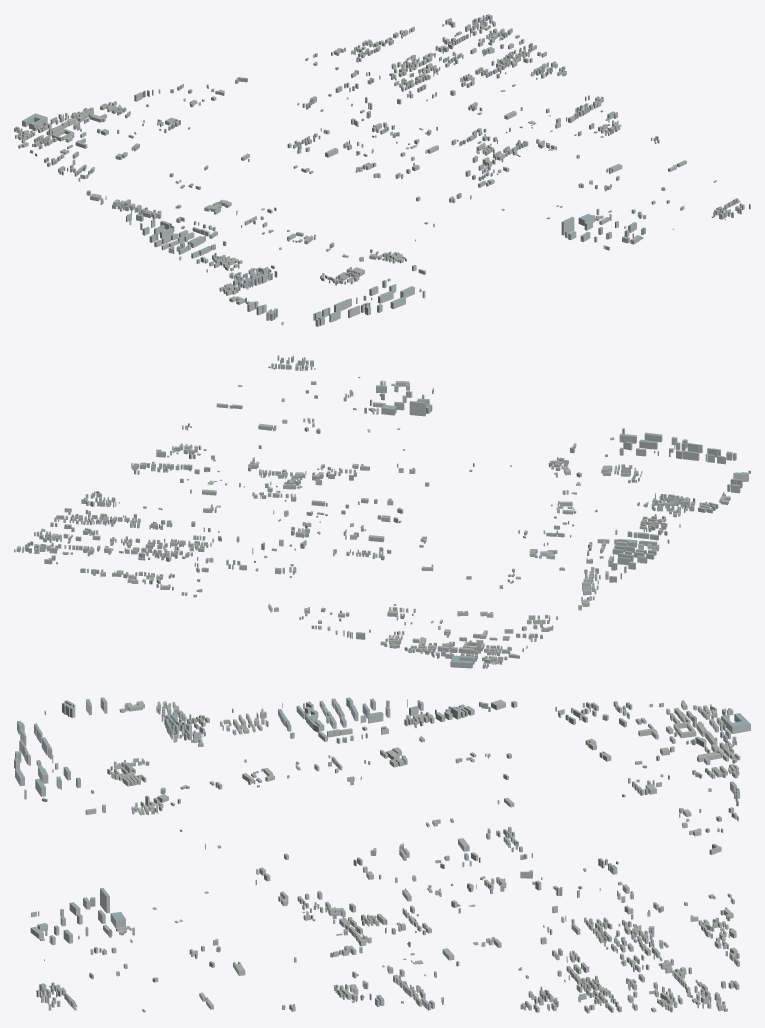
File: far.glb
3 renders of one model, top to bottom at view 1: azimuth 30°, elevation 25°; view 2: azimuth 150°, elevation 25°; view 3: azimuth 270°, elevation 25°, orthographic. The views are drawn at different scales.
Size of the model in its own units: 2121 by 53.71 by 2132.
